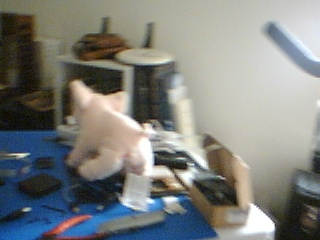piggy: (64, 77, 158, 183)
